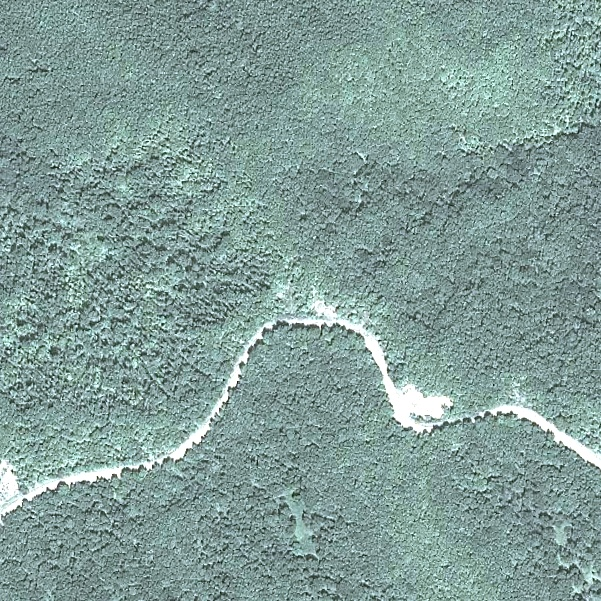slope: (398, 379, 458, 421)
